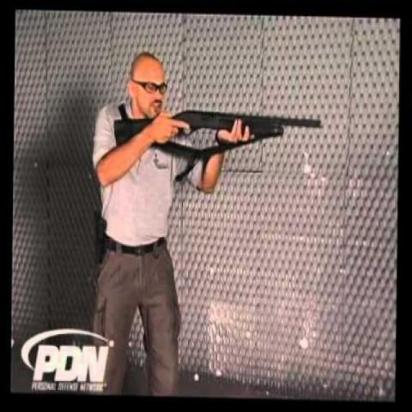Gun: (108, 105, 328, 158)
